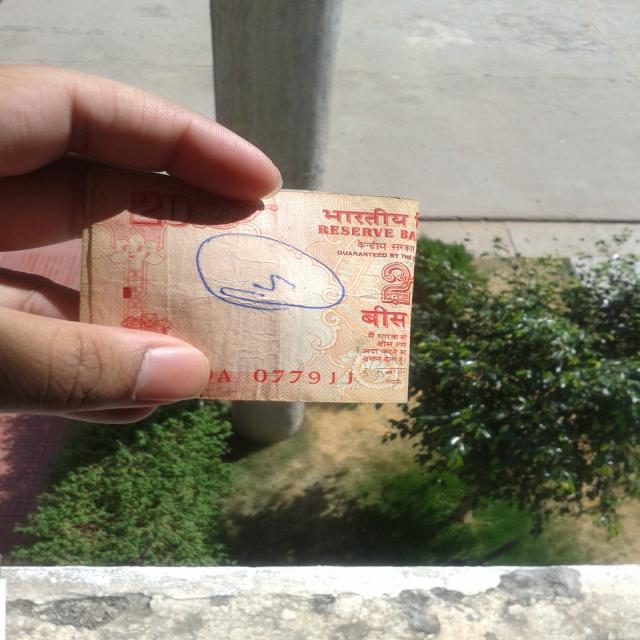20rs: (78, 172, 412, 402)
